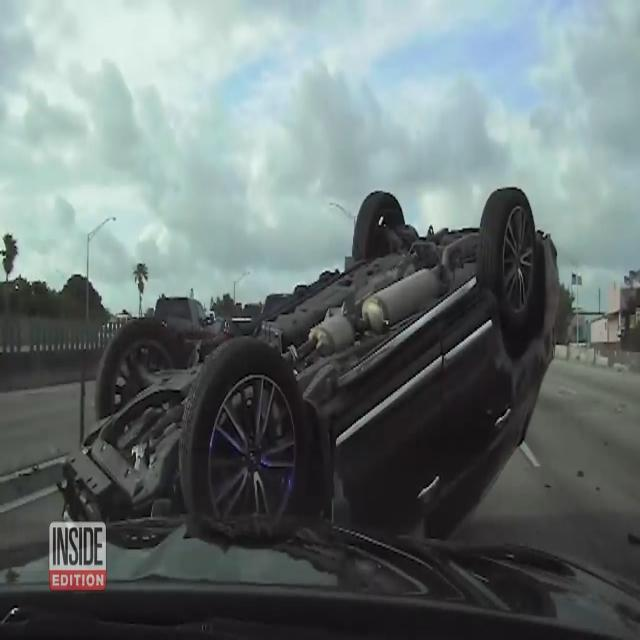accident: (64, 180, 560, 536)
